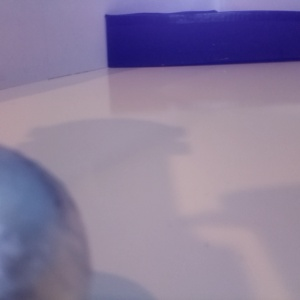zone: (1, 10, 300, 92)
